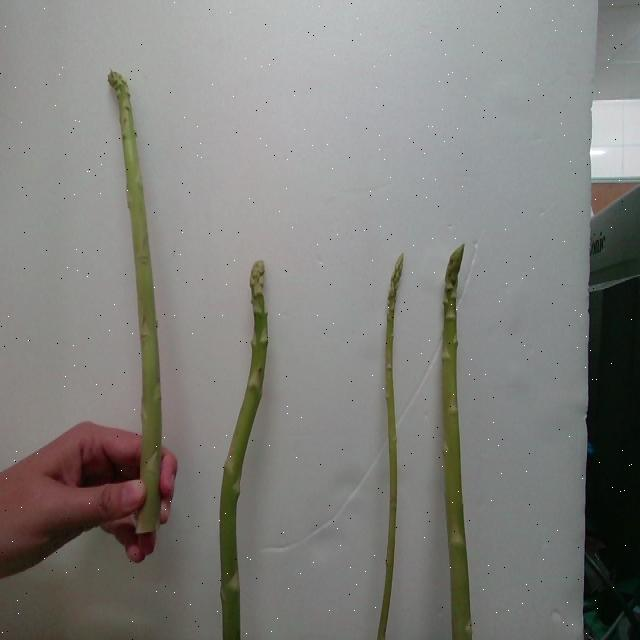aspargus: (108, 72, 169, 558), (220, 261, 270, 640), (443, 247, 476, 640), (378, 263, 403, 640)
